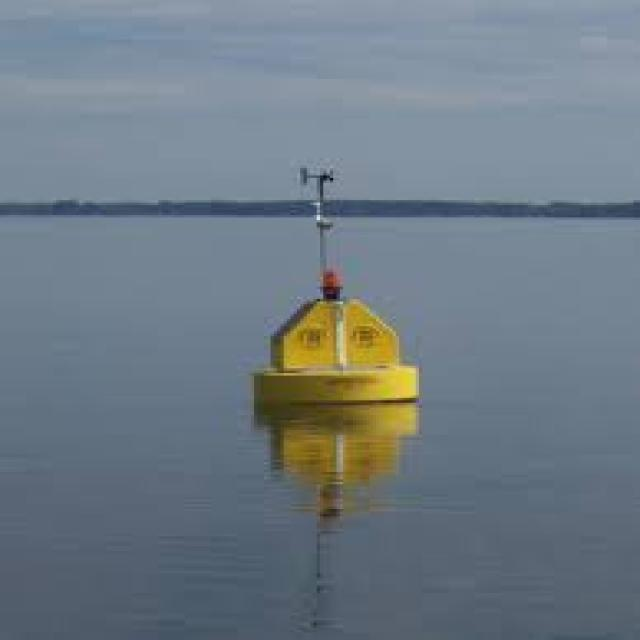2.5 sepcial mark: (243, 136, 425, 434)
